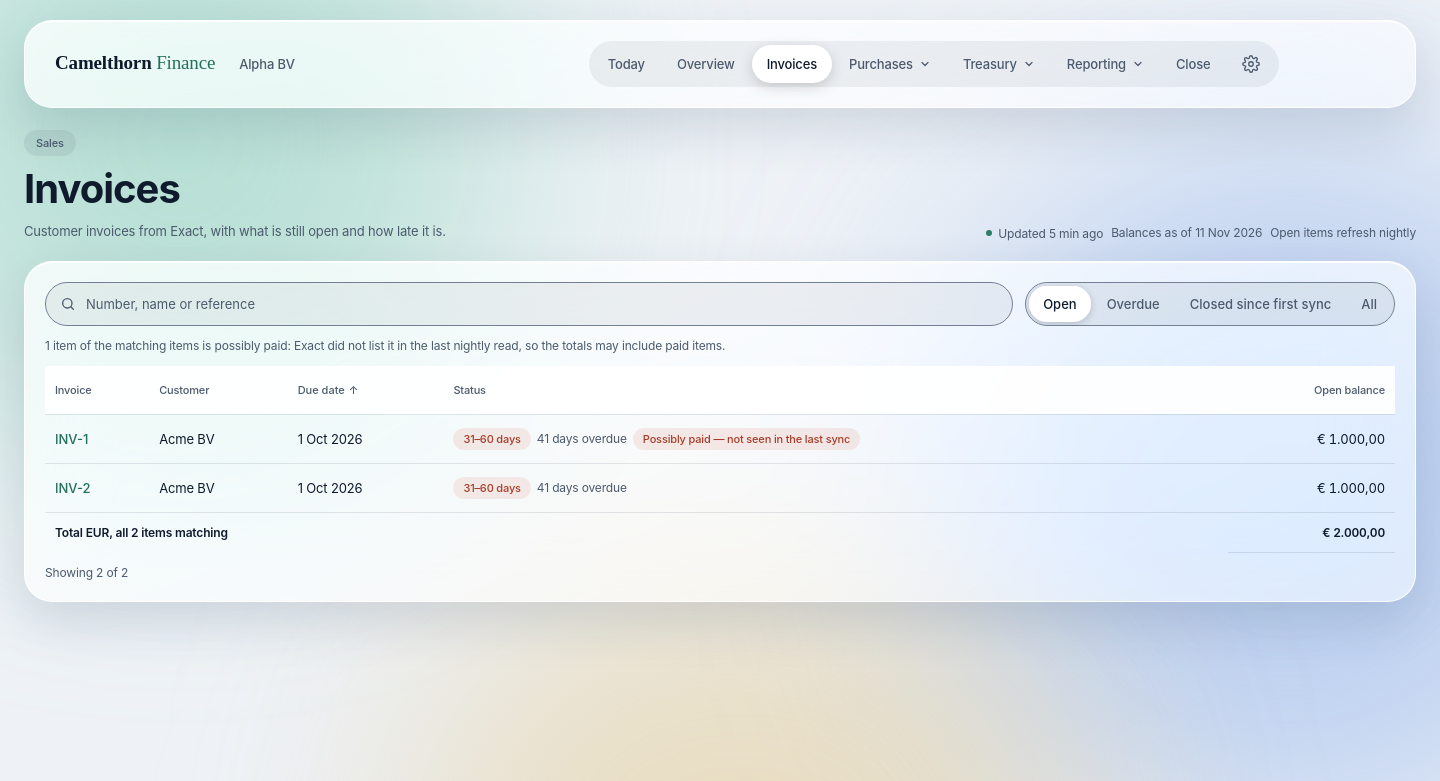
possibly paid (review S8) › flags rows missed by the last full read, in the list and the sheet, and states the cadence
Expected: the text "Possibly paid — not seen in the last sync" is shown once, [633, 428, 860, 450]
Expected: the text "Open items refresh nightly" is shown, [1270, 225, 1416, 241]
Click the button "INV-1".
click(72, 439)  # box [55, 427, 88, 451]
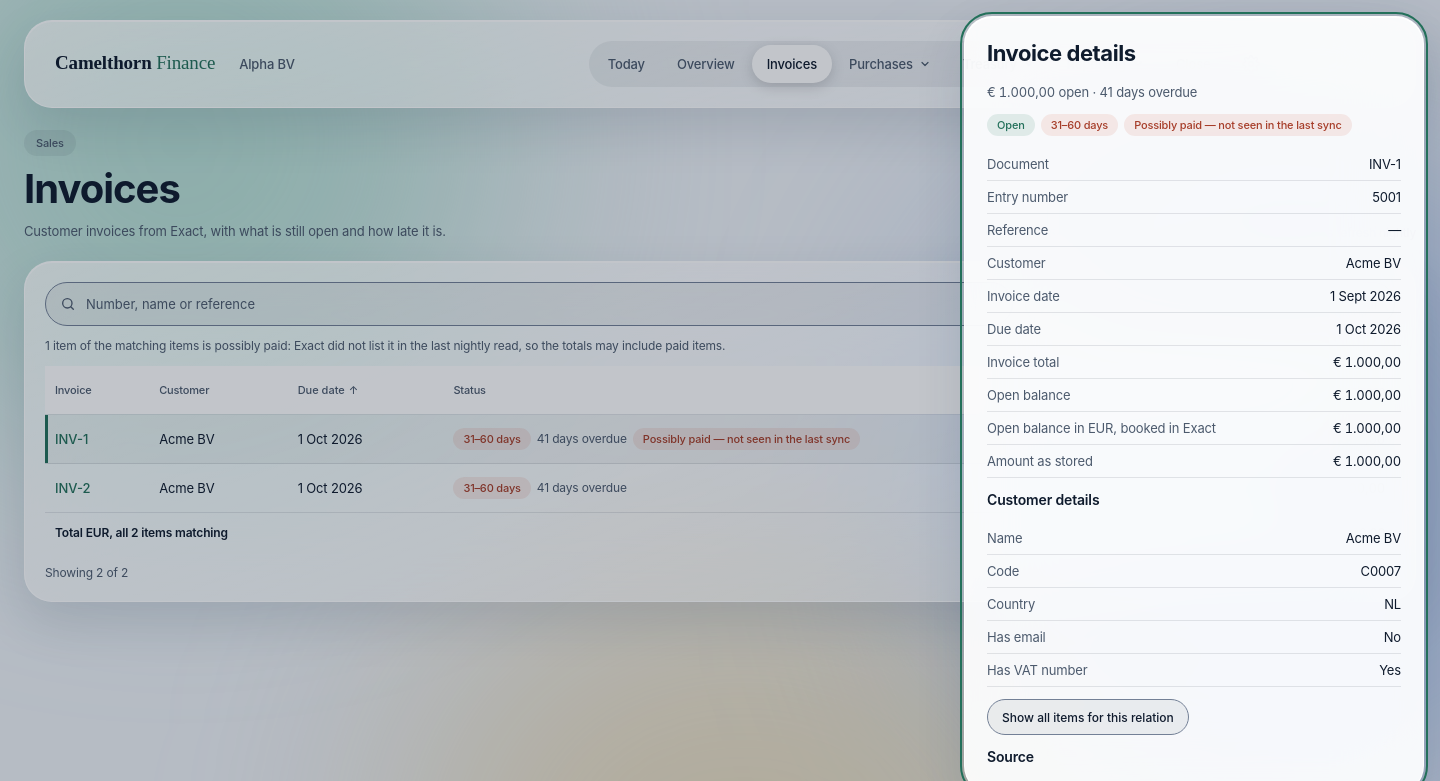
Now the text "Possibly paid — not seen in the last sync" is shown, box [1124, 114, 1352, 136]
